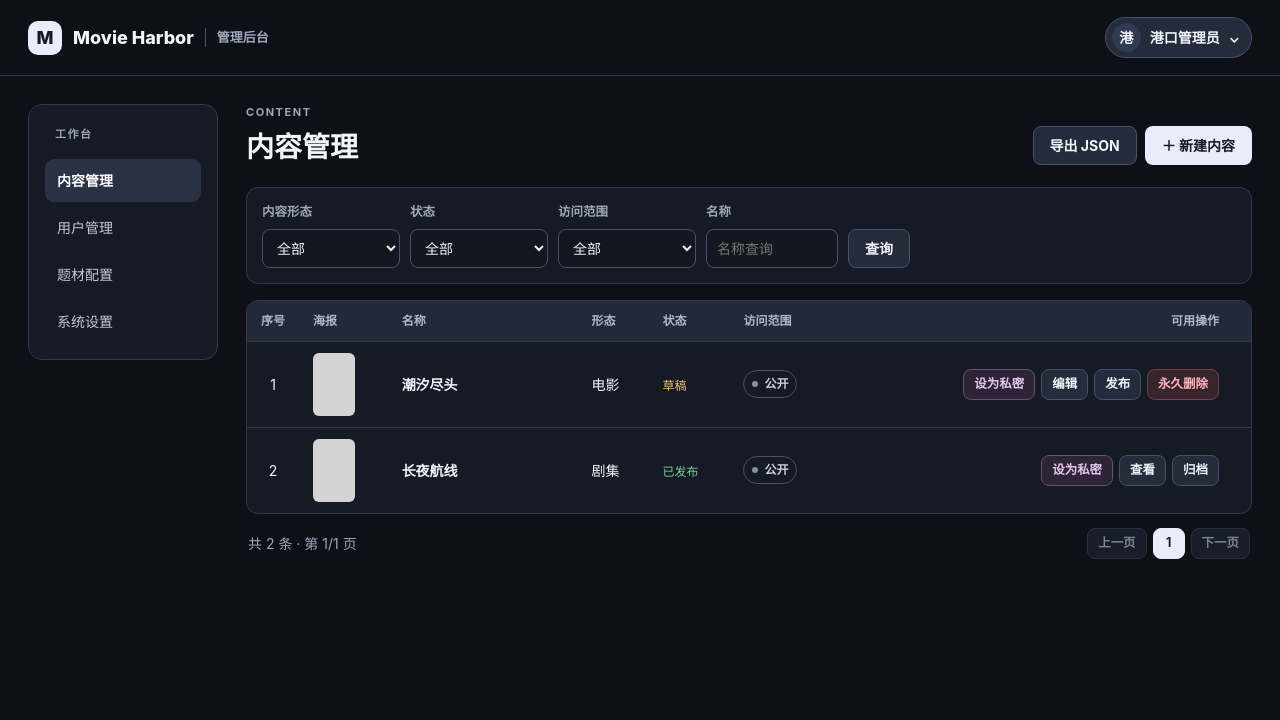
Test: opens viewer management from navigation and returns to login when its session expires
Click the button "用户管理": (123, 227) [45,206,201,248]
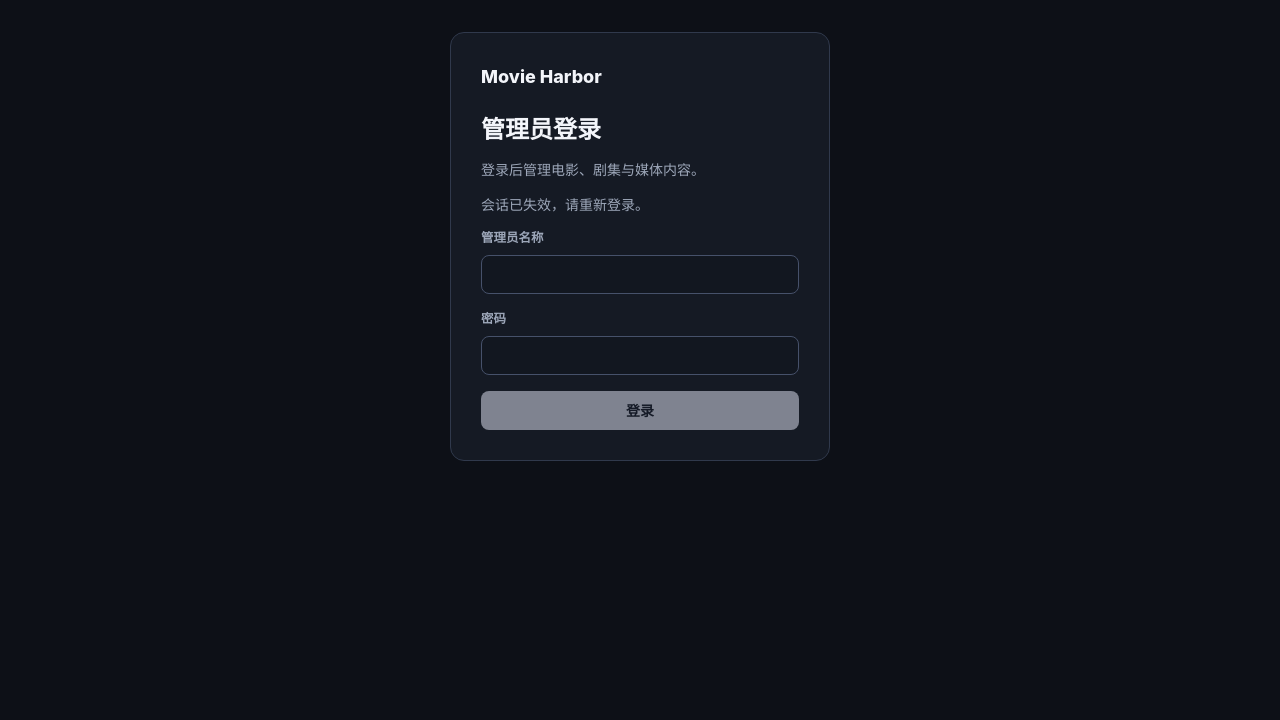
Result: the heading "管理员登录" is shown at [481,115,601,144]
Result: the message reads "会话已失效，请重新登录。" at [481,196,649,213]
Result: the navigation bar is gone
